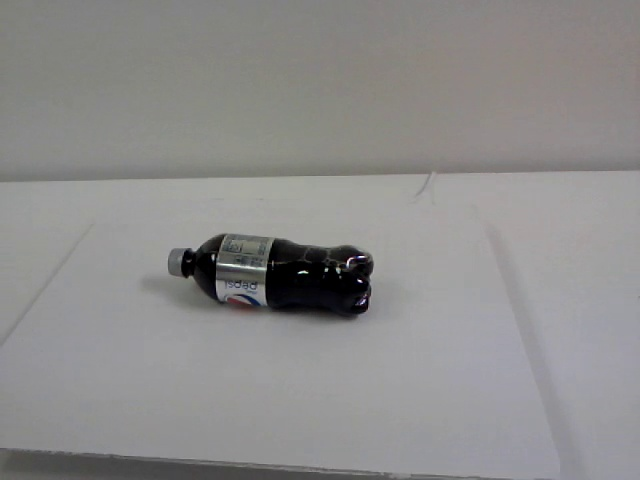botolplastik: (169, 235, 372, 317)
